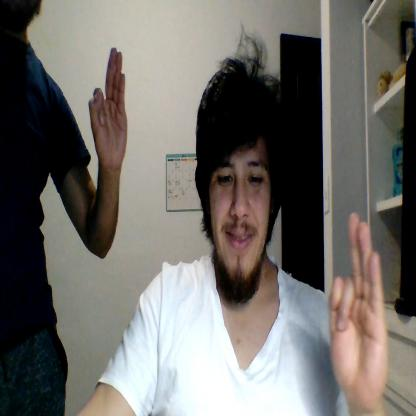F: (328, 212, 387, 396), (89, 47, 128, 166)
